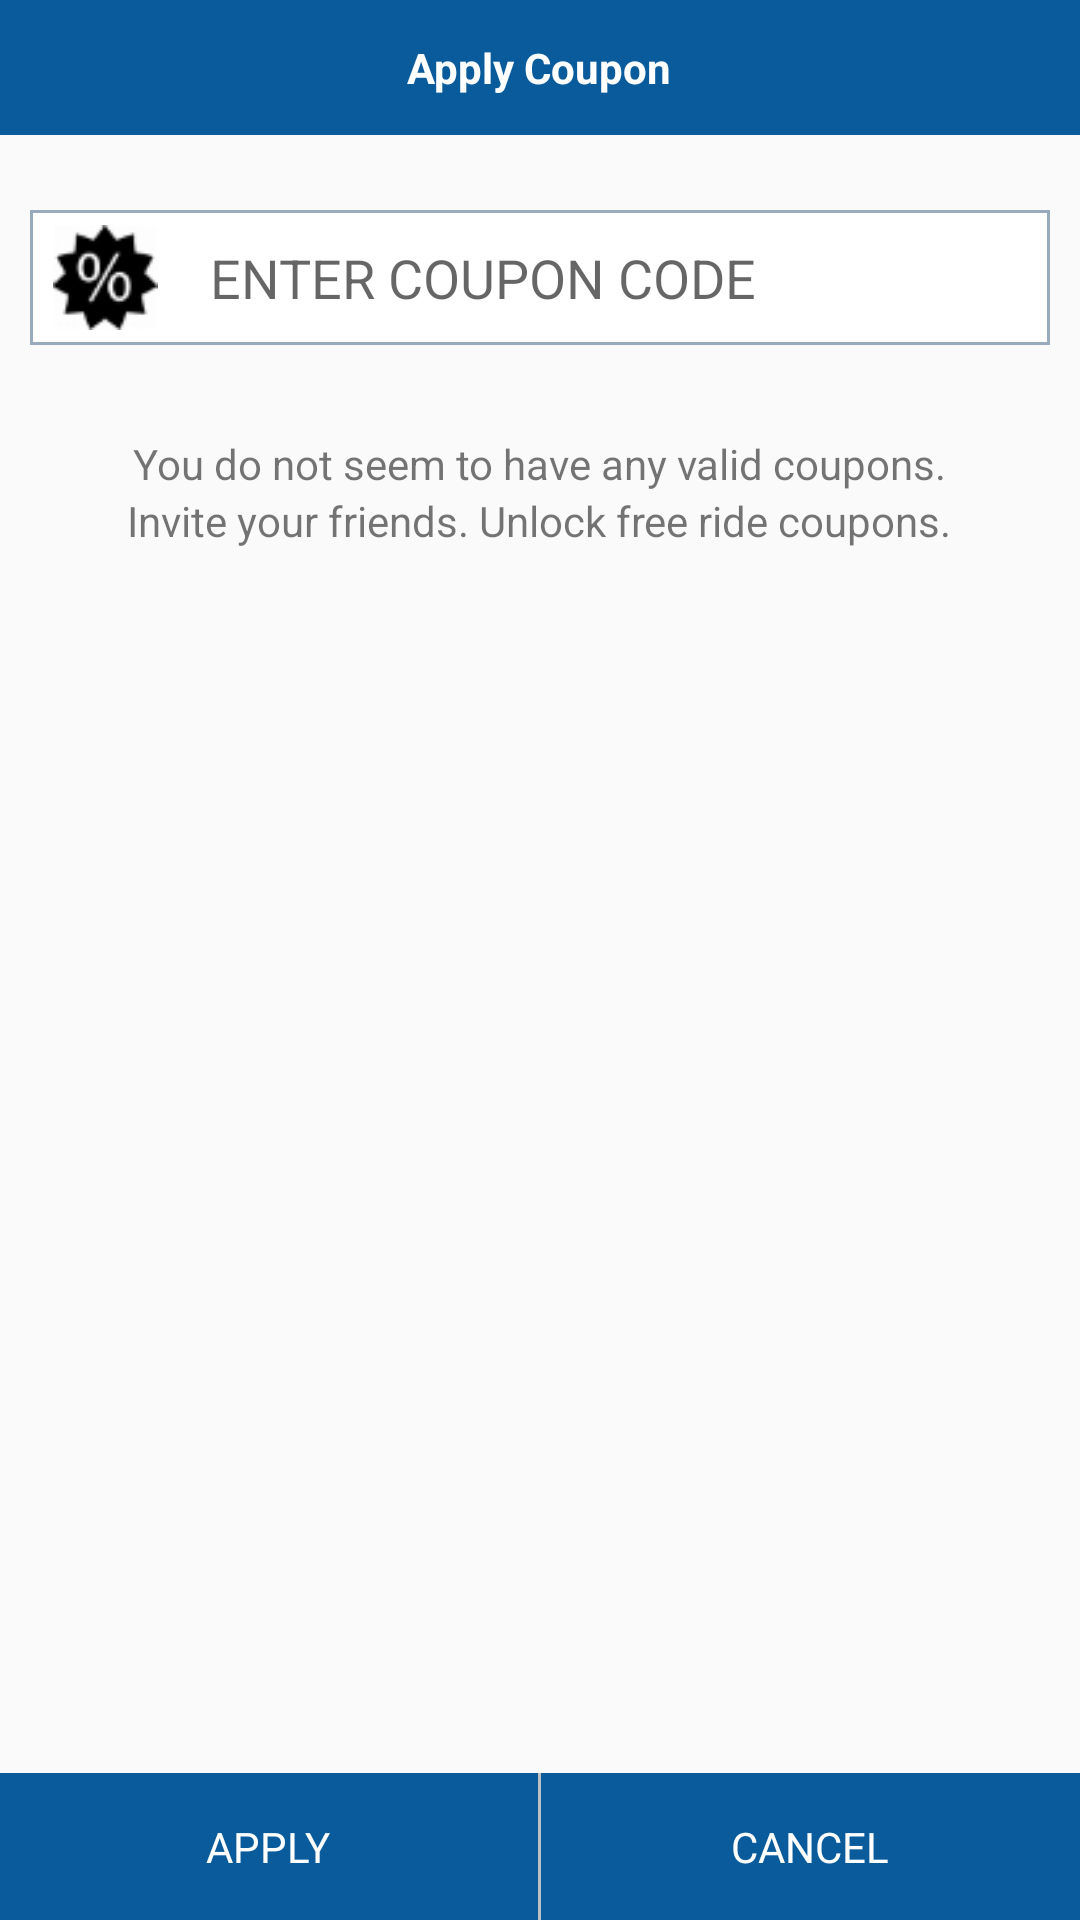

Locate icon controls on the screen. Image size 1080px×1920px, boxes as [x1, y1, x2, y2].
discount: [53, 225, 158, 330]
